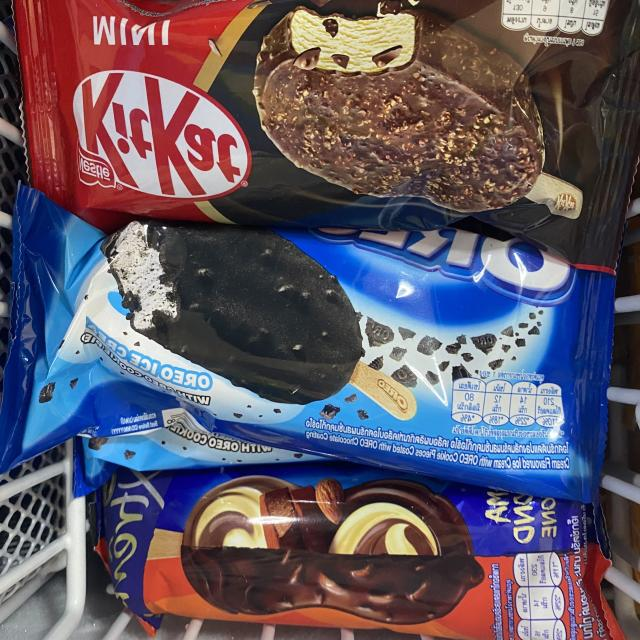plastik: (0, 187, 614, 504), (13, 0, 640, 274), (98, 464, 625, 640)
